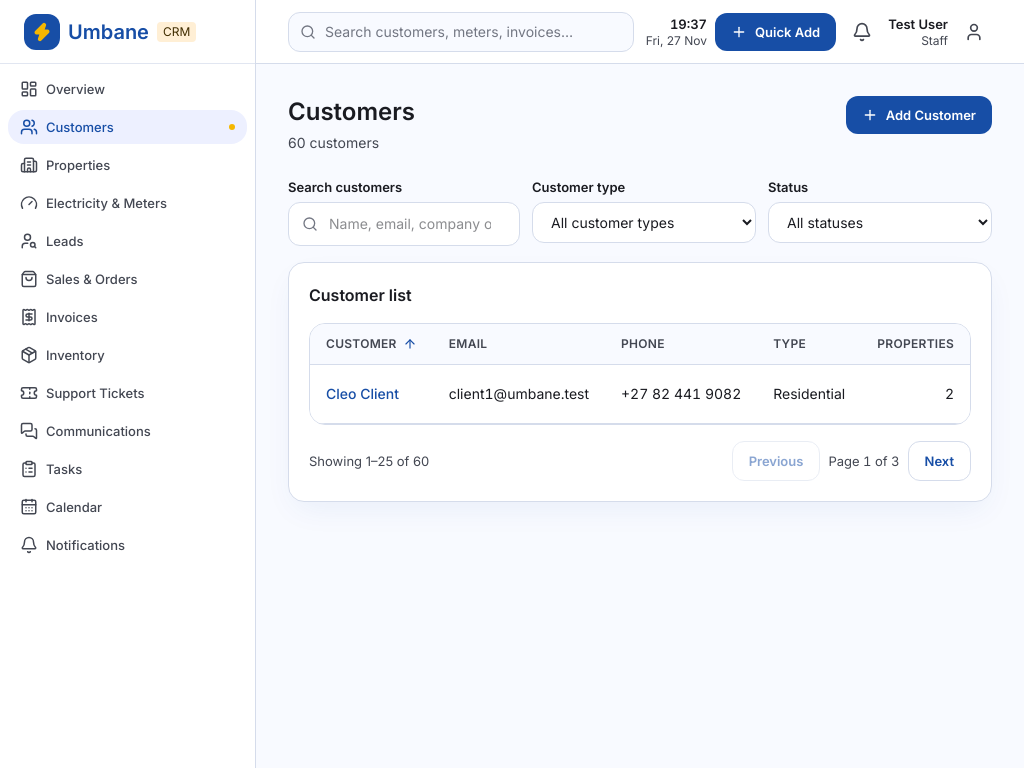
Test case: customer list › paginates and shows the range
The image size is (1024, 768).
Expected: the text "Showing 1–25 of 60" is shown, [309, 452, 429, 470]
Expected: the button "Previous" is disabled, [732, 441, 820, 481]
Click the button "Next": (939, 461) [908, 441, 971, 481]
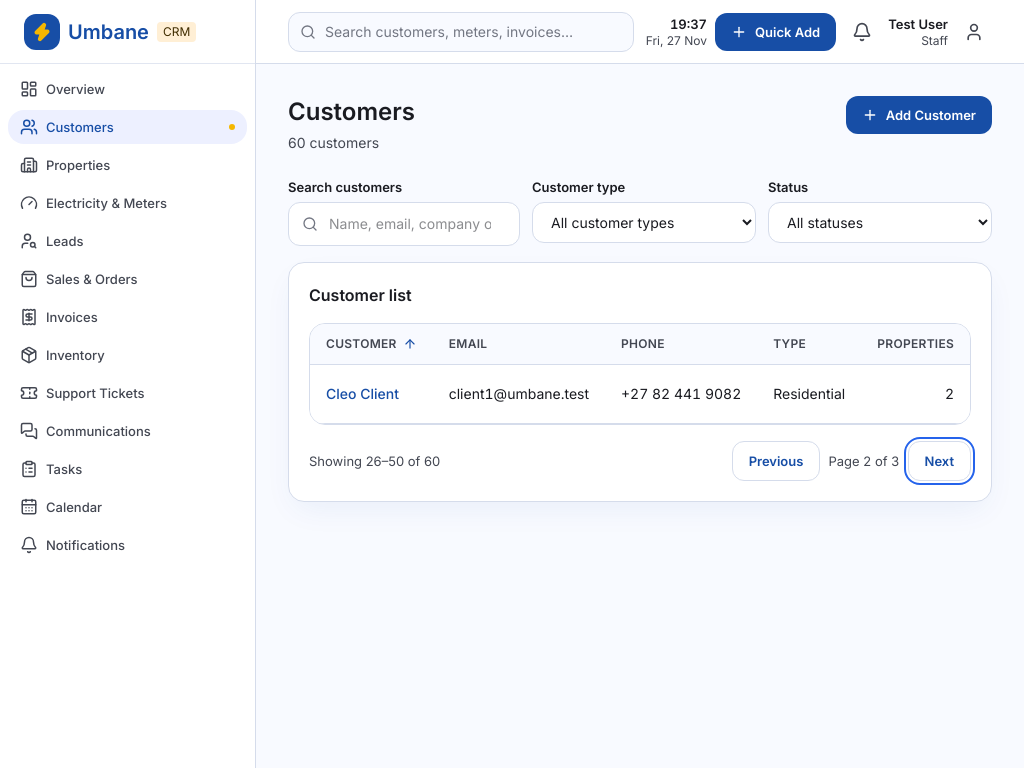
Now the text "Showing 26–50 of 60" is shown, box [309, 452, 440, 470]
